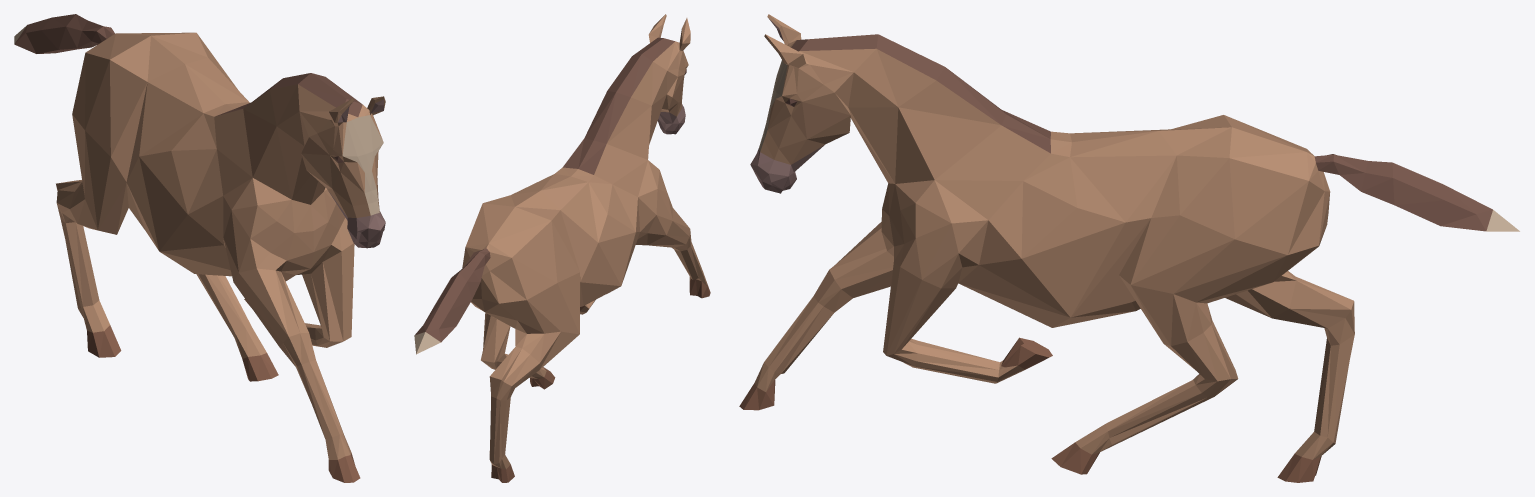
The model's file is Horse.glb.
3 renders of one model, left to right at view 1: azimuth 30°, elevation 25°; view 2: azimuth 150°, elevation 25°; view 3: azimuth 270°, elevation 25°, orthographic. The views are drawn at different scales.
Visible parts, largest first — view 1: mesh_0; view 2: mesh_0; view 3: mesh_0.
Part boxes in pixels (x1,y1,x2,y2): mesh_0: [14, 14, 385, 482]; mesh_0: [414, 14, 710, 482]; mesh_0: [739, 14, 1519, 482].
Bounding box in the file's own units: 63.39 × 186 × 282.
